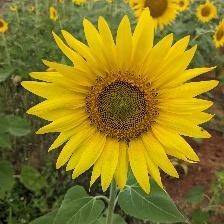sunflower: (21, 8, 222, 197)
